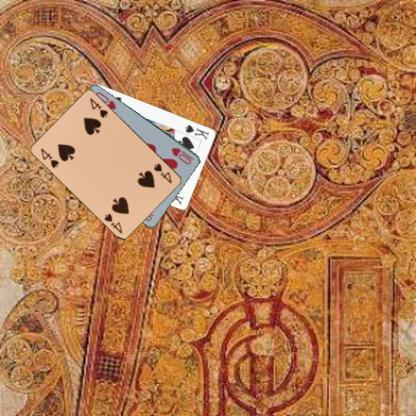10h: (169, 145, 195, 166)
4s: (38, 146, 61, 169), (152, 161, 174, 185)
Ks: (183, 122, 210, 141)
